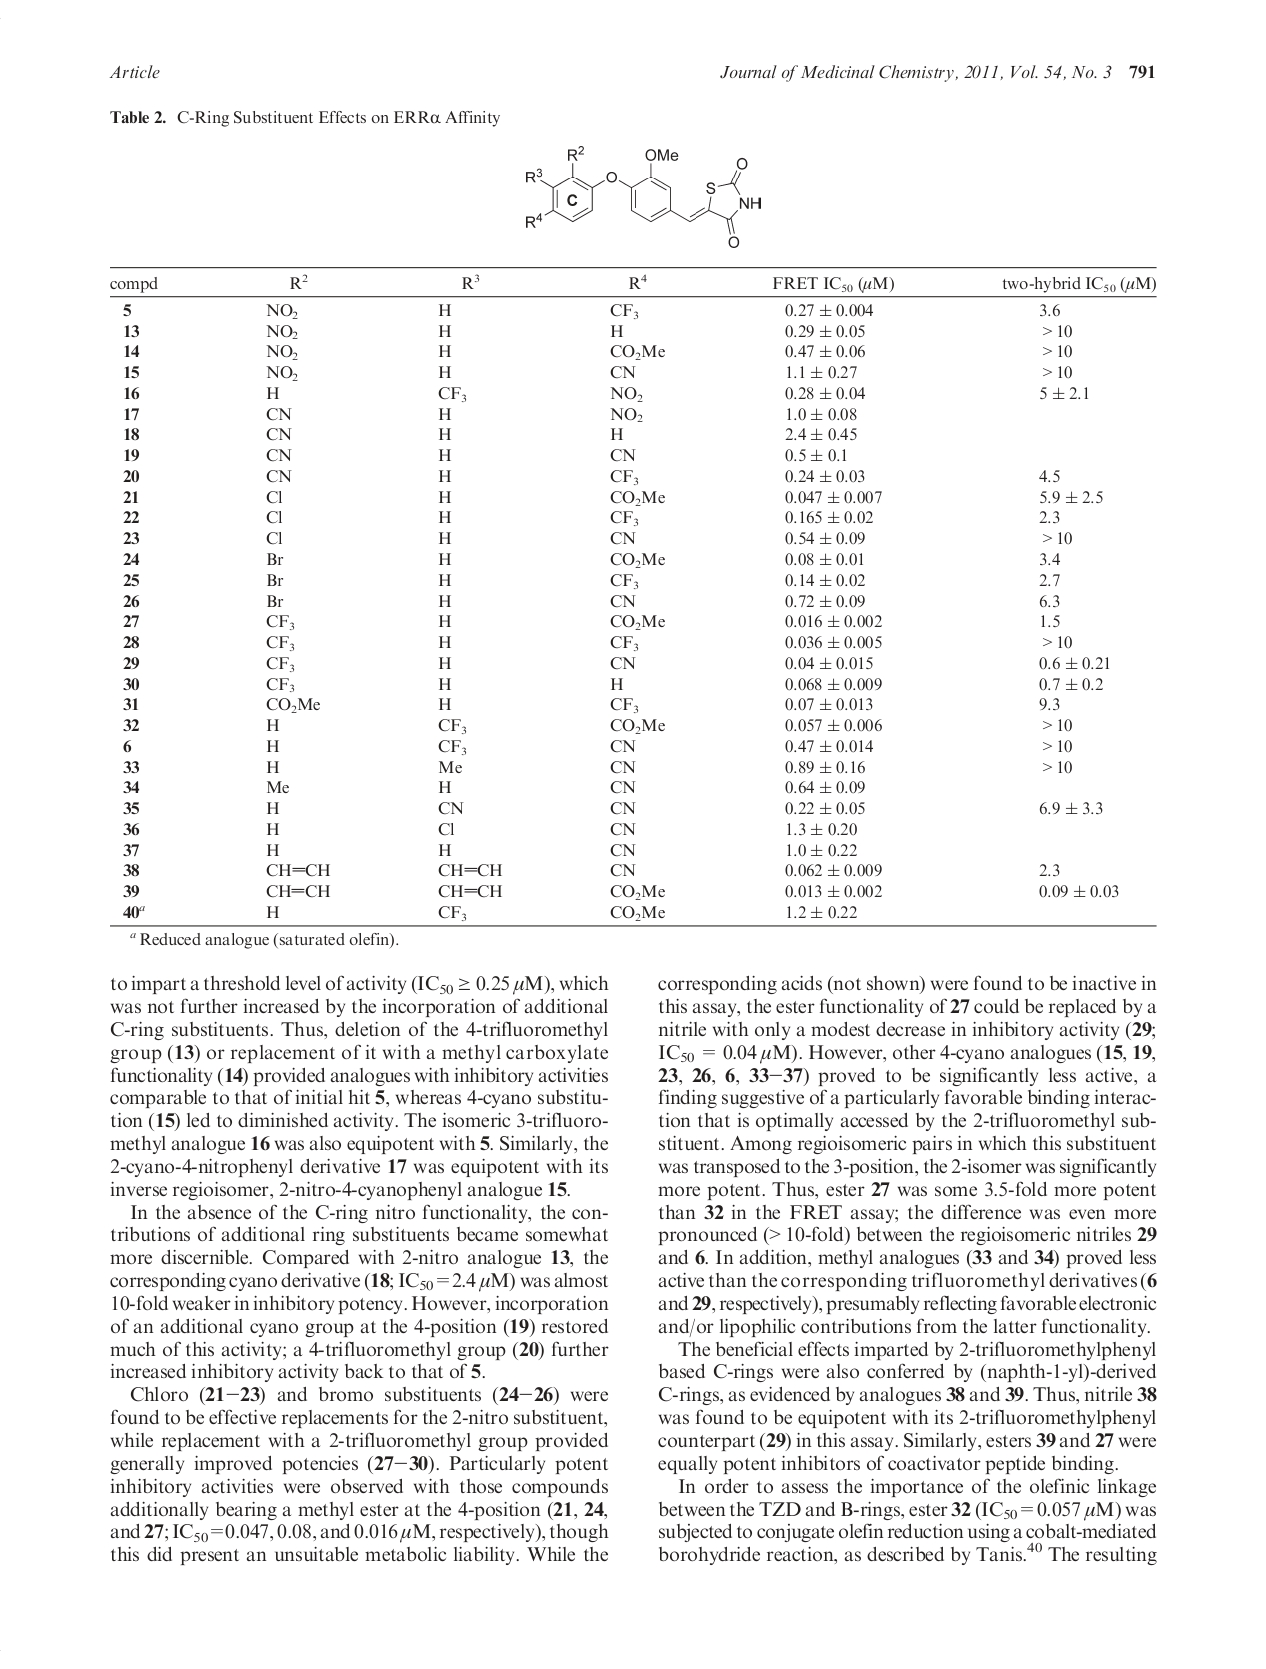exist_molecular: (517, 133, 765, 253)
